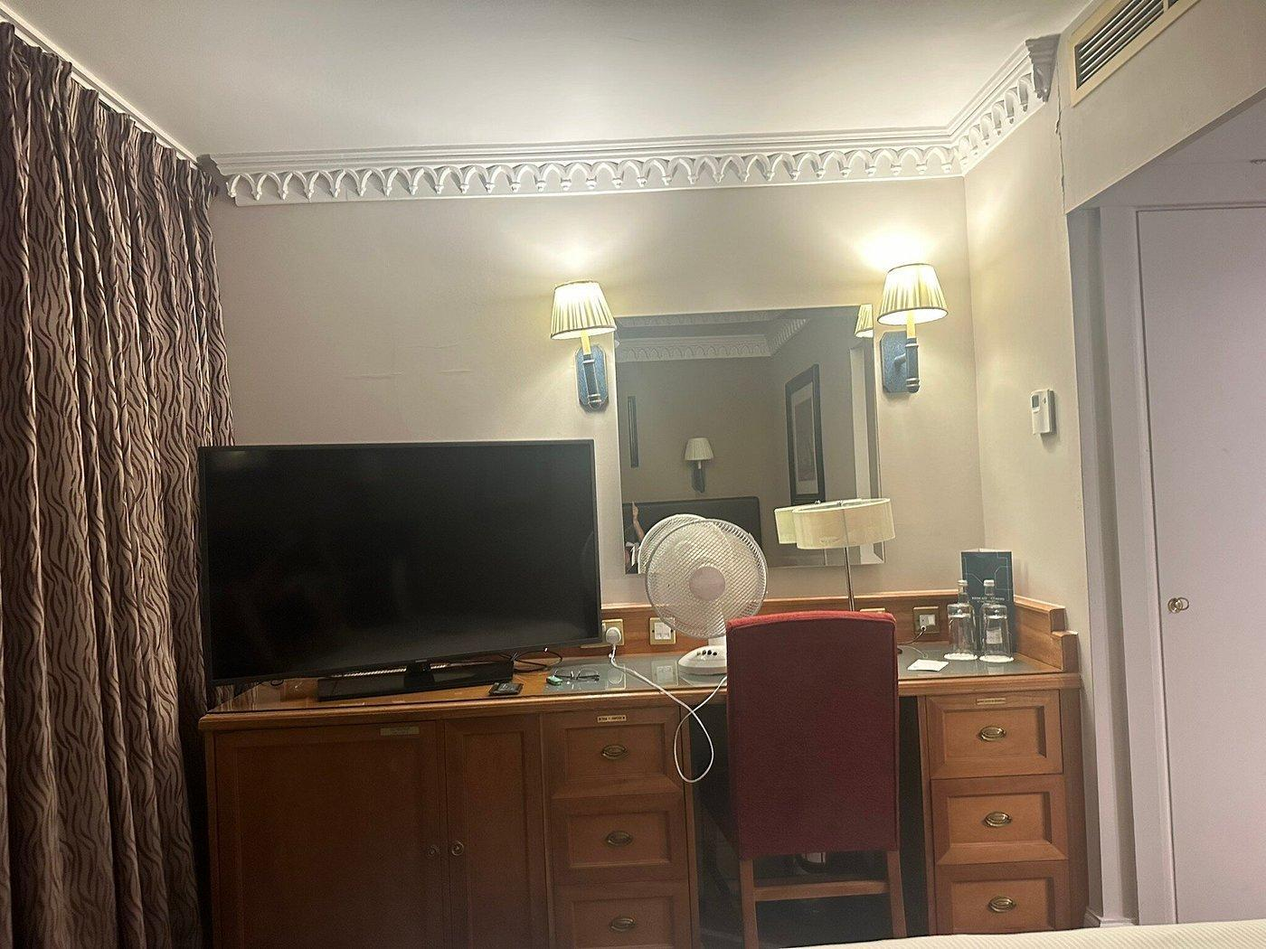chair: (726, 627, 906, 947)
lamp: (553, 283, 622, 414), (877, 273, 945, 396)
organized table: (163, 499, 1090, 928)
